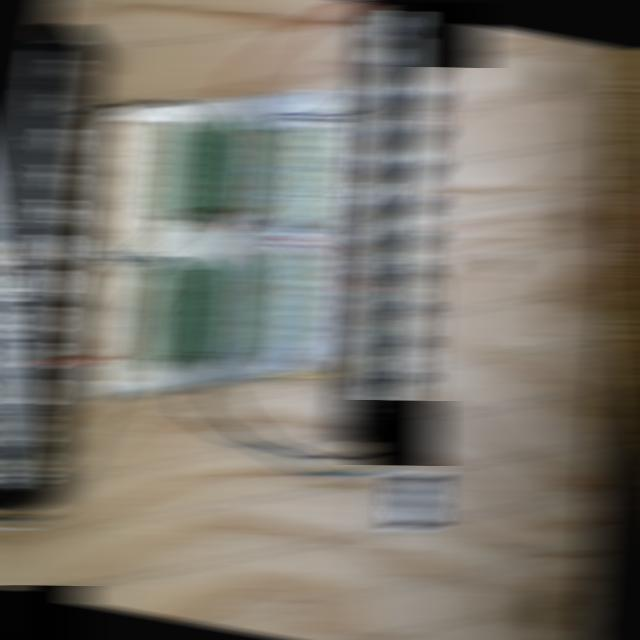Flathead_Block: (342, 5, 449, 447)
Phillips_Block: (0, 17, 86, 513)
Terminal_1: (261, 247, 305, 351), (272, 122, 315, 224)
Terminal_2: (199, 257, 244, 356), (137, 263, 181, 363), (169, 261, 213, 360), (181, 116, 225, 215), (210, 114, 253, 213)
